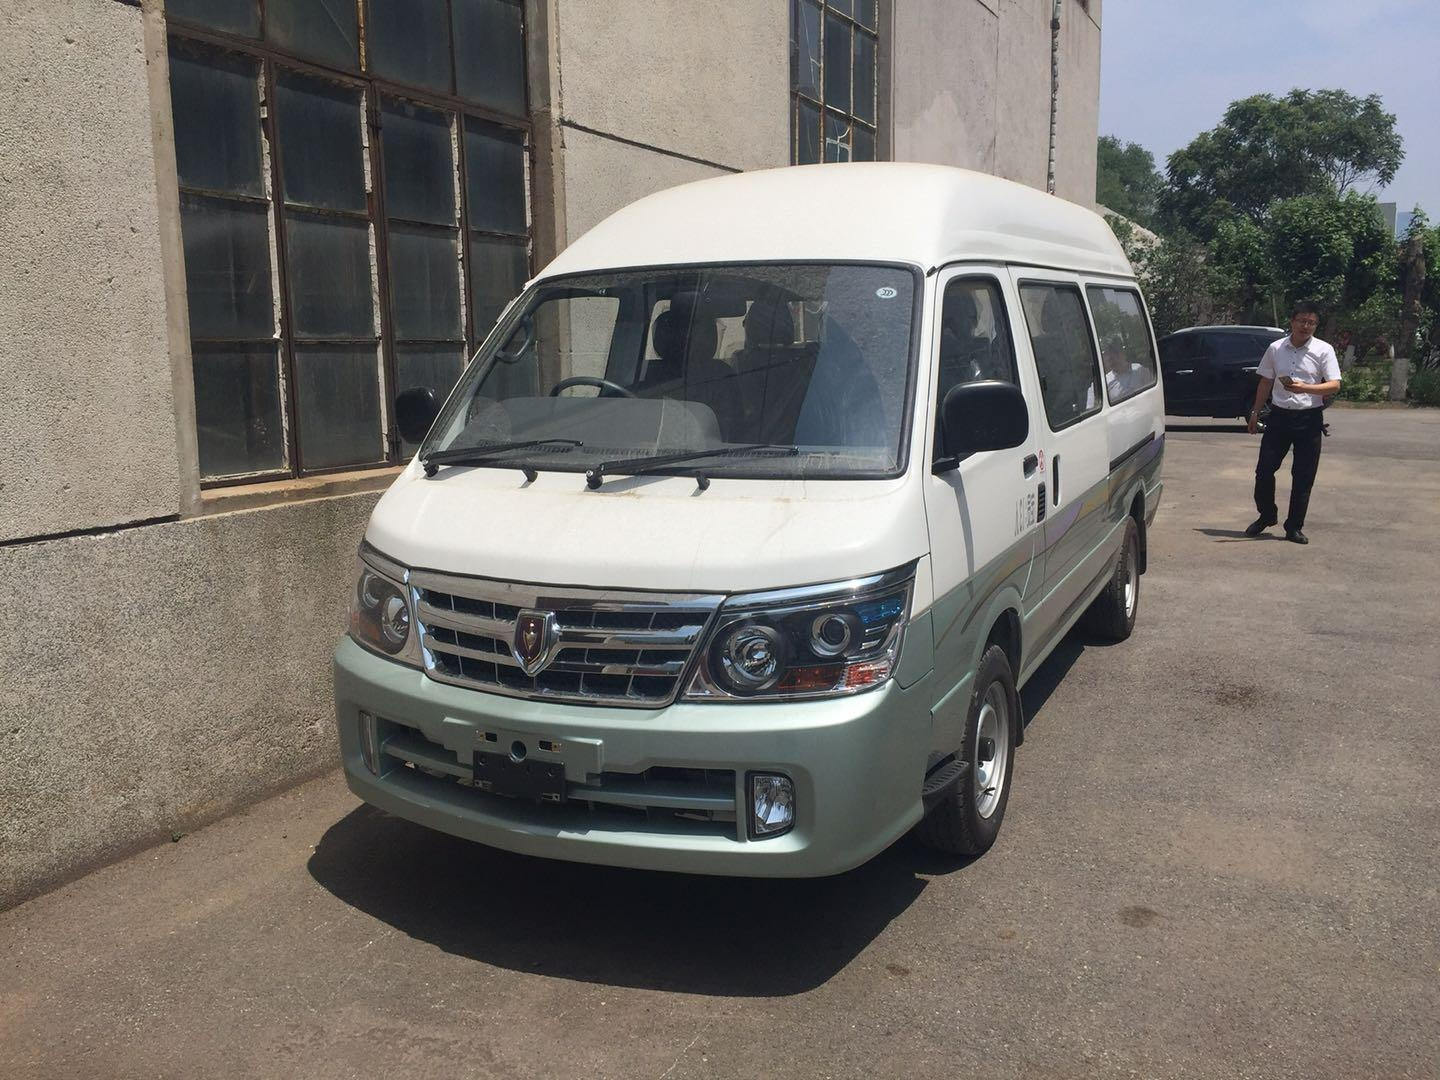van: (317, 157, 1181, 891)
